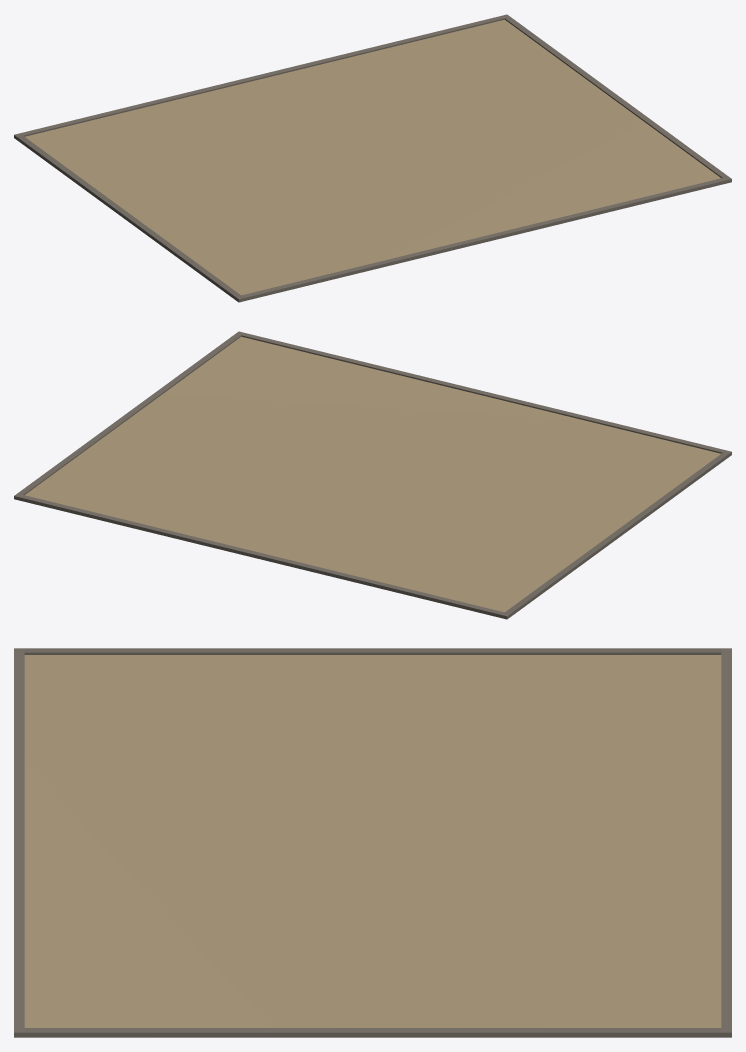
The model's file is cusco_plaza_lod0.glb.
3 renders of one model, top to bottom at view 1: azimuth 30°, elevation 25°; view 2: azimuth 150°, elevation 25°; view 3: azimuth 270°, elevation 25°, orthographic. The views are drawn at different scales.
Visible parts, largest first — view 1: GEO-Arch_cusco_plaza_LOD0; view 2: GEO-Arch_cusco_plaza_LOD0; view 3: GEO-Arch_cusco_plaza_LOD0.
Part boxes in pixels (left/top/right/bottom): GEO-Arch_cusco_plaza_LOD0: left=14, top=14, right=731, bottom=302; GEO-Arch_cusco_plaza_LOD0: left=14, top=331, right=731, bottom=619; GEO-Arch_cusco_plaza_LOD0: left=14, top=648, right=731, bottom=1037.
Bounding box in the file's own units: 38.01 × 0.2413 × 30.01.
